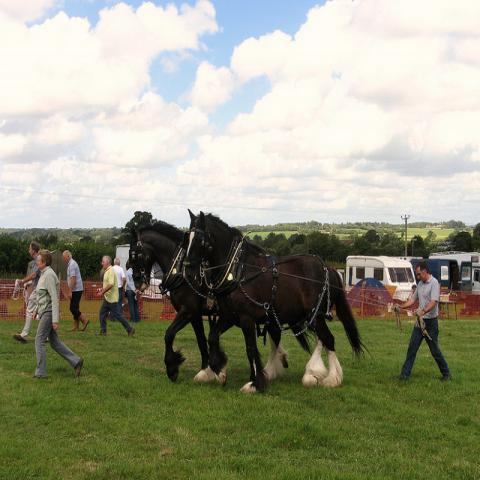bus: (428, 250, 475, 279), (460, 256, 479, 291)
car: (345, 254, 417, 301), (410, 258, 472, 290), (472, 261, 479, 292)
truck: (346, 256, 418, 300), (410, 258, 479, 294)
